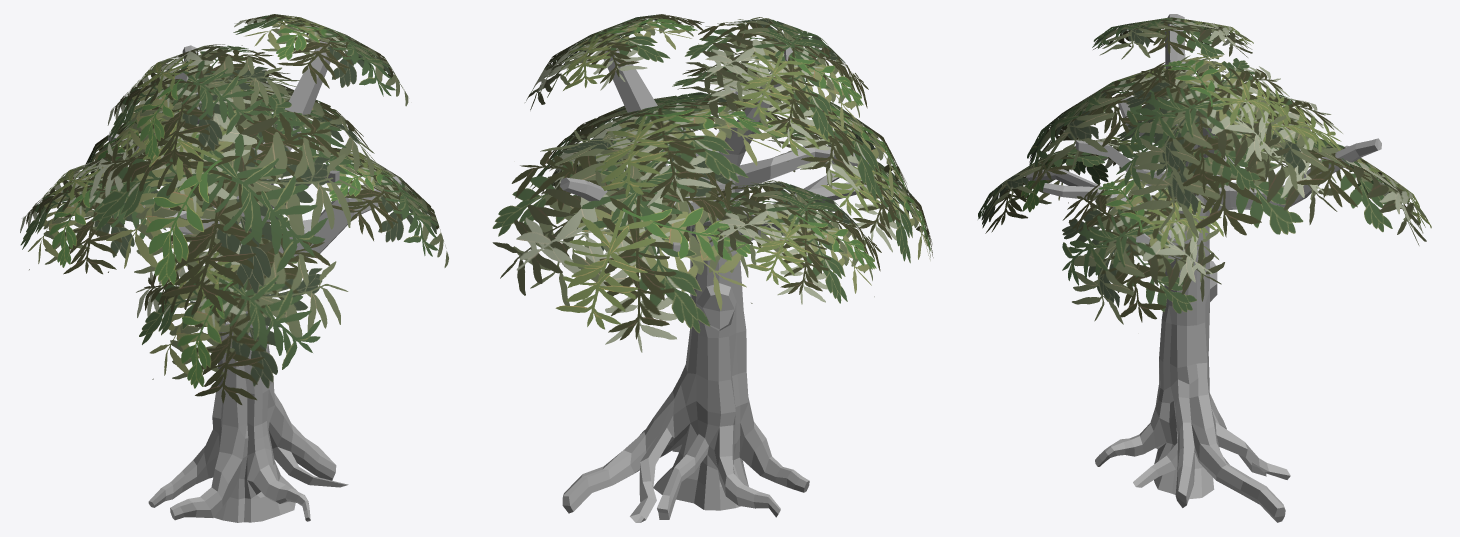
Rendered from leafed Tree.fbx.
3 renders of one model, left to right at view 1: azimuth 30°, elevation 25°; view 2: azimuth 150°, elevation 25°; view 3: azimuth 270°, elevation 25°, orthographic. The views are drawn at different scales.
Parts seen in each view (by area): view 1: Hub_tree1; view 2: Hub_tree1; view 3: Hub_tree1.
Boxes of the visible parts, <box> form: Hub_tree1: <box>20,14,448,522</box>; Hub_tree1: <box>492,14,933,522</box>; Hub_tree1: <box>978,14,1431,522</box>.
Size of the model in its own units: 45.17 by 54.83 by 54.33.
